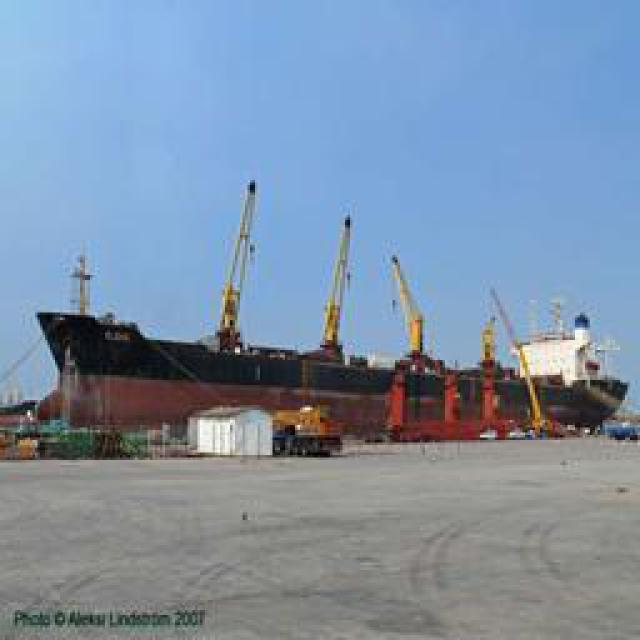Ship: (30, 301, 631, 435)
